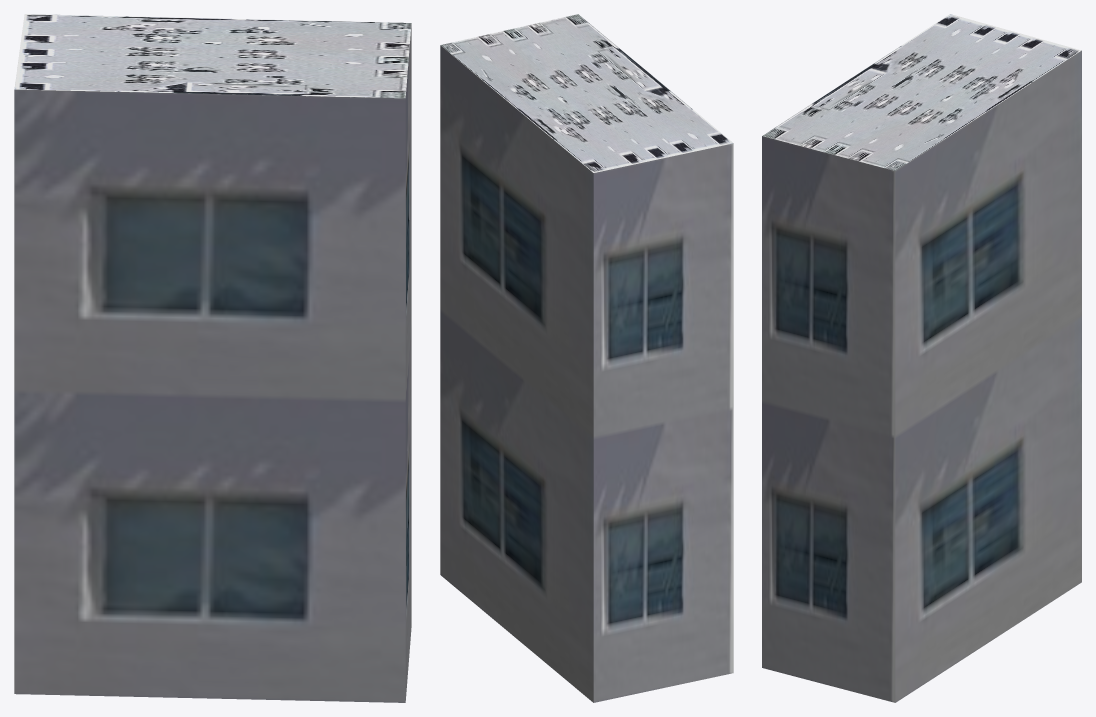
File: ResTex__4424.fbx
The picture shows the model from 3 angles, left to right: view 1: azimuth 30°, elevation 25°; view 2: azimuth 150°, elevation 25°; view 3: azimuth 270°, elevation 25°; orthographic projection. The views are drawn at different scales.
Visible parts, largest first — view 1: CityEngineMaterial_10_m, CityEngineMaterial_4_m; view 2: CityEngineMaterial_10_m, CityEngineMaterial_4_m; view 3: CityEngineMaterial_10_m, CityEngineMaterial_4_m.
Part boxes in pixels (x1,y1,x2,y2): CityEngineMaterial_10_m: [14, 24, 411, 702]; CityEngineMaterial_4_m: [14, 14, 411, 98]; CityEngineMaterial_10_m: [440, 45, 733, 702]; CityEngineMaterial_4_m: [440, 14, 733, 172]; CityEngineMaterial_10_m: [762, 50, 1081, 702]; CityEngineMaterial_4_m: [762, 14, 1081, 170].
Bounding box in the file's own units: 3.8 × 6 × 3.27.
Materials: 2 (2 with a texture image).
